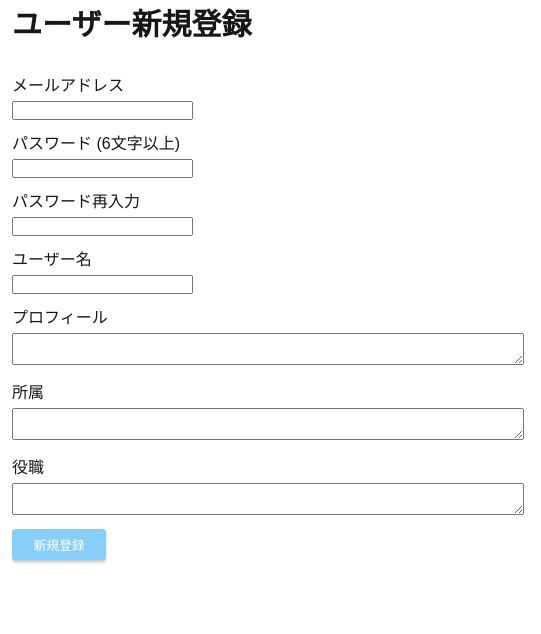
Test: ユーザー登録のテスト › ユーザー名が空のときにエラーメッセージが表示され、それぞれの入力欄に入力した値が残ること
The width and height of the screenshot is (541, 634).
Type "user@example.com" into the field labelled "メールアドレス". click: point(102, 110)
box: [12,101,193,120]
Type "password" into the password field labelled "パスワード (6文字以上)". click: point(102, 168)
box: [12,159,193,178]
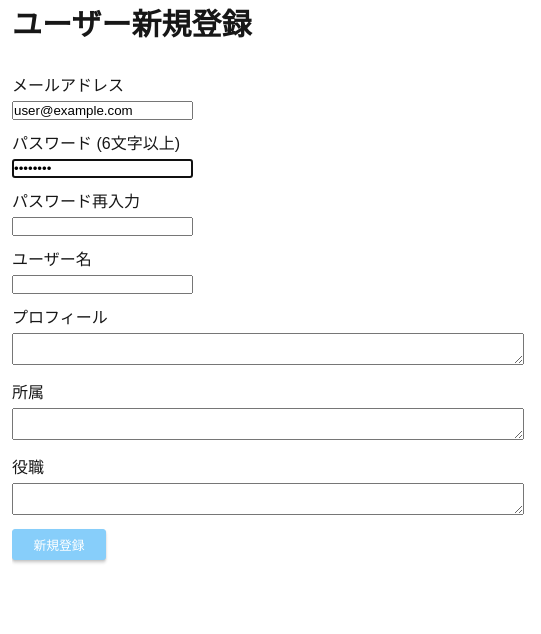
Type "password" into the password field labelled "パスワード再入力". click: point(102, 226)
box: [12,217,193,236]
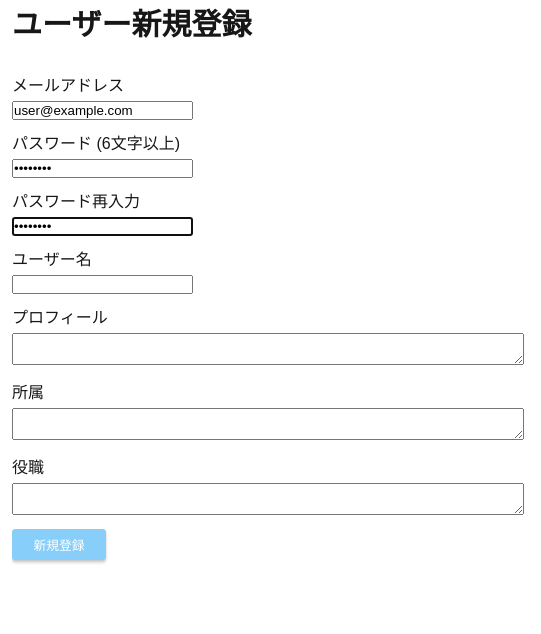
Type "自己紹介です" into the text box labelled "プロフィール". click: point(268, 349)
box: [12,333,524,365]
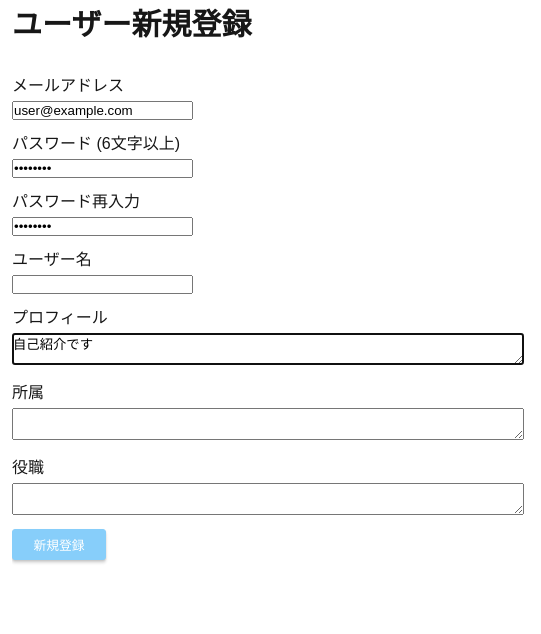
Type "開発部" into the text box labelled "所属". click: point(268, 424)
box: [12,408,524,440]
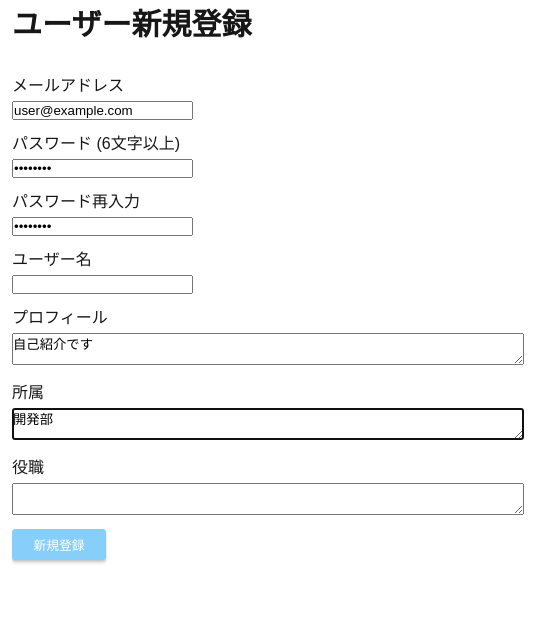
Type "エンジニア" into the text box labelled "役職". click: point(268, 499)
box: [12,483,524,515]
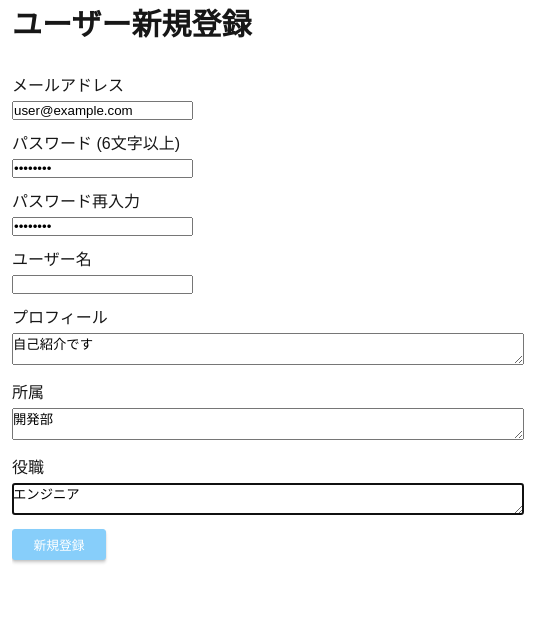
Click the button "新規登録". click: point(59, 545)
box: [12,529,106,560]
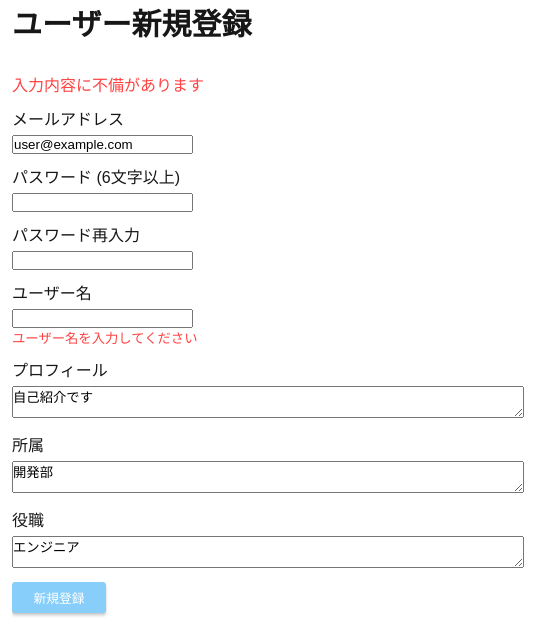
Now the text "ユーザー名を入力してください" is shown, box [12,331,198,346]
